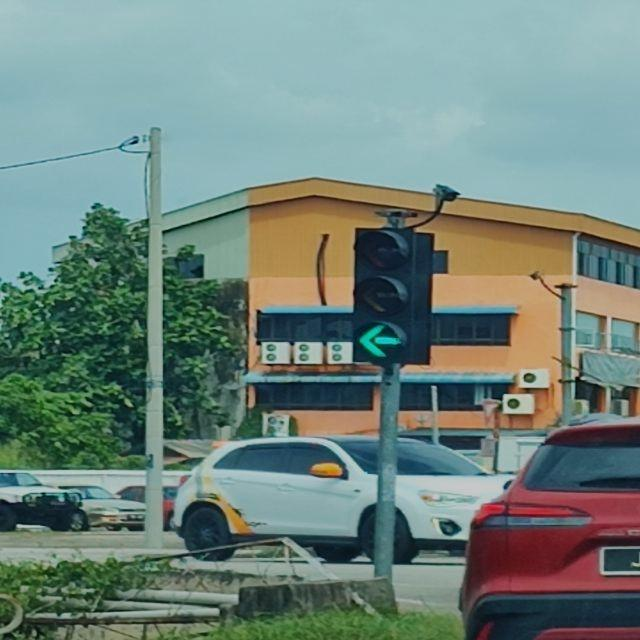Green: (354, 225, 414, 364)
